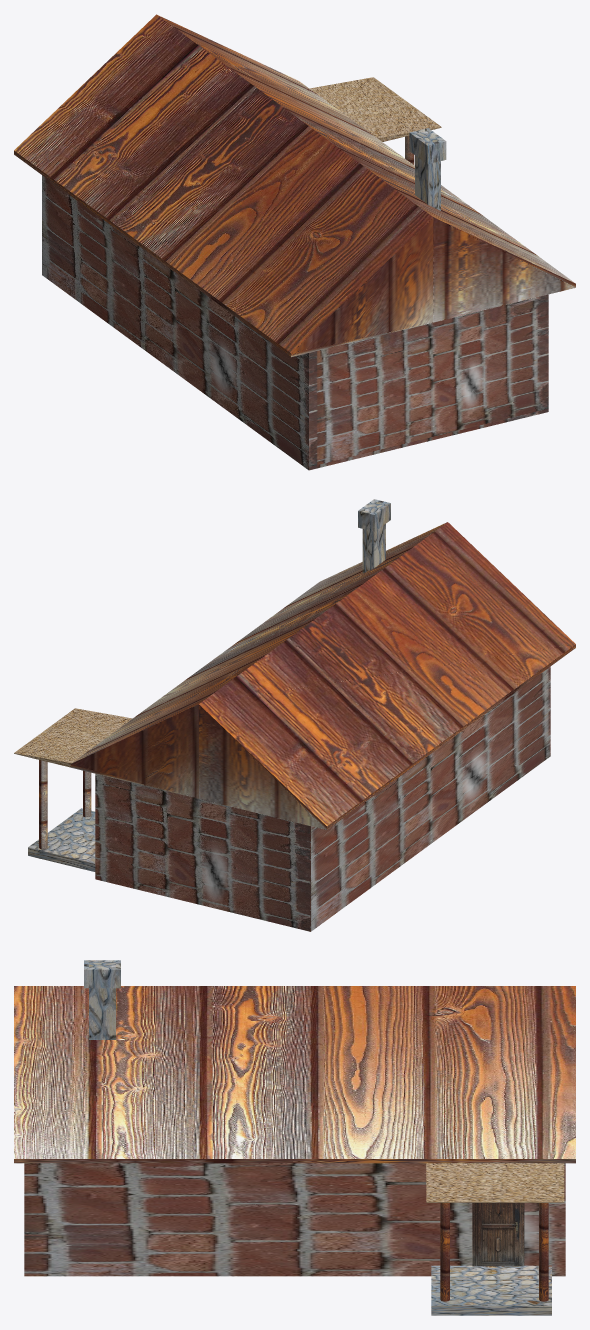
The model's file is izba.glb.
3 views of the same model, one above another, from view 1: azimuth 30°, elevation 25°; view 2: azimuth 150°, elevation 25°; view 3: azimuth 270°, elevation 25° (orthographic). The views are drawn at different scales.
Visible parts, largest first — view 1: krysha, steny, Куб, truba; view 2: krysha, steny, Куб, kryltso, truba, ctolb_kryl.001; view 3: krysha, steny, Куб, kryltso, dver, truba, ctolb_kryl.001, ctolb_kryl.
Boxes of the visible parts, x1=… form: krysha: x1=14, y1=14, x2=575, y2=357; steny: x1=42, y1=175, x2=548, y2=470; Куб: x1=309, y1=77, x2=441, y2=141; truba: x1=409, y1=128, x2=446, y2=210; krysha: x1=70, y1=522, x2=575, y2=829; steny: x1=95, y1=666, x2=550, y2=931; Куб: x1=14, y1=708, x2=132, y2=767; kryltso: x1=28, y1=808, x2=95, y2=871; truba: x1=358, y1=499, x2=390, y2=573; ctolb_kryl.001: x1=39, y1=760, x2=47, y2=849; krysha: x1=14, y1=986, x2=575, y2=1163; steny: x1=24, y1=1163, x2=565, y2=1276; Куб: x1=426, y1=1163, x2=564, y2=1202; kryltso: x1=431, y1=1265, x2=551, y2=1315; dver: x1=472, y1=1203, x2=524, y2=1266; truba: x1=84, y1=960, x2=120, y2=1039; ctolb_kryl.001: x1=539, y1=1203, x2=548, y2=1301; ctolb_kryl: x1=440, y1=1203, x2=449, y2=1301.
Size of the model in its own units: 6.01 by 4.33 by 8.15.
Materials: 8 (8 with a texture image).
